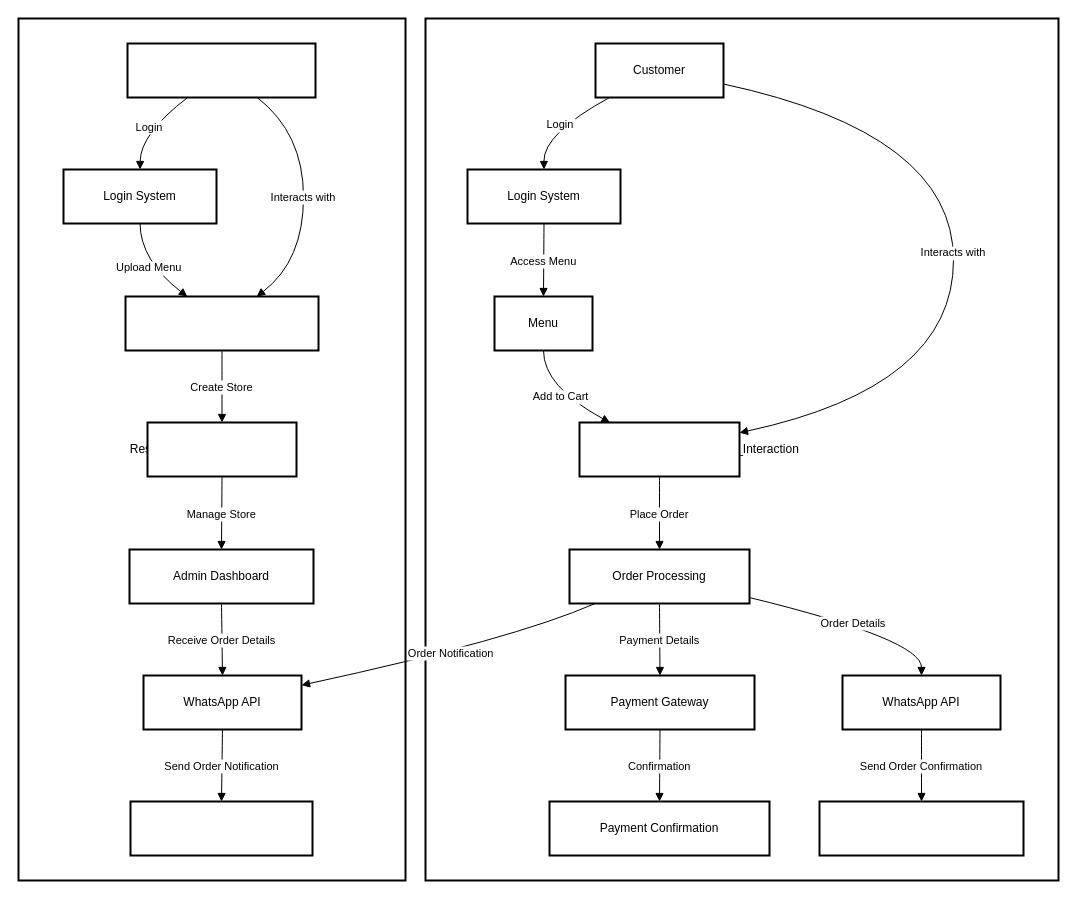
Some shapes in this 1076 by 898 pixel diagram are drawn without their labels. The centre of each missing label's shape, as x and y in pixels:
"Customer WhatsApp" goes at pixel 921 828.
"Digital Store" goes at pixel 221 449.
"Menu Management" goes at pixel 221 323.
"Owner WhatsApp" goes at pixel 221 828.
"Restaurant Owner" goes at pixel 221 70.
"Shopping Cart" goes at pixel 659 449.
